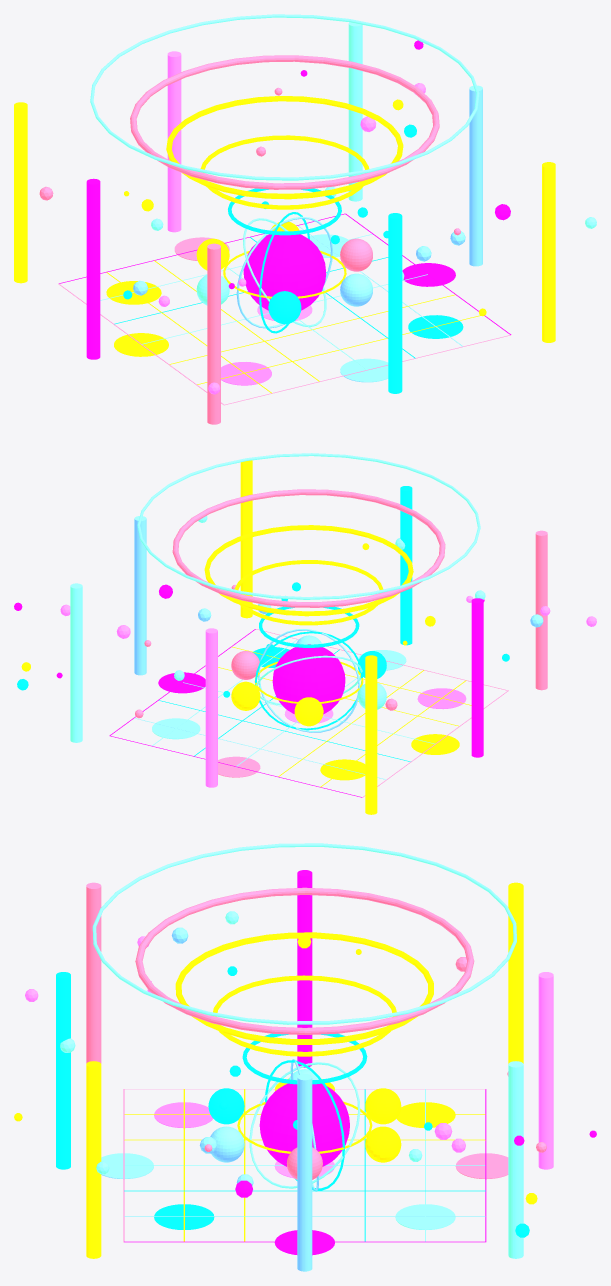
File: estructura5.glb
3 renders of one model, top to bottom at view 1: azimuth 30°, elevation 25°; view 2: azimuth 150°, elevation 25°; view 3: azimuth 270°, elevation 25°, orthographic. The views are drawn at different scales.
Parts seen in each view (by area): view 1: Ring_0, CentralSculpture, Ring_3, Ring_1, Pillar_7, Pillar_4, Pillar_2, Pillar_1, Pillar_0, Pillar_5, Pillar_6, Pillar_3 (+12 smaller); view 2: Ring_0, CentralSculpture, Ring_3, Ring_1, Pillar_2, Pillar_3, Pillar_6, Pillar_7, Pillar_5, Pillar_0, Pillar_4, Pillar_1 (+13 smaller); view 3: Ring_0, CentralSculpture, Ring_3, Ring_1, Pillar_5, Pillar_1, Pillar_6, Pillar_3, Pillar_4, Pillar_2, Pillar_0, Pillar_7 (+18 smaller).
Part boxes in pixels (x1,y1,x2,y2): Ring_0: [130, 55, 439, 189]; CentralSculpture: [243, 231, 326, 310]; Ring_3: [90, 14, 479, 180]; Ring_1: [166, 96, 403, 199]; Pillar_7: [86, 178, 100, 359]; Pillar_4: [388, 213, 402, 393]; Pillar_2: [14, 102, 27, 283]; Pillar_1: [542, 162, 555, 342]; Pillar_0: [207, 243, 220, 424]; Pillar_5: [469, 85, 482, 266]; Pillar_6: [167, 51, 181, 232]; Pillar_3: [348, 22, 362, 201]; Ring_0: [172, 489, 445, 607]; CentralSculpture: [272, 644, 345, 714]; Ring_3: [137, 453, 480, 599]; Ring_1: [204, 525, 413, 616]; Pillar_2: [365, 655, 377, 814]; Pillar_3: [70, 583, 82, 742]; Pillar_6: [205, 628, 217, 787]; Pillar_7: [471, 598, 483, 757]; Pillar_5: [134, 516, 146, 675]; Pillar_0: [535, 530, 547, 690]; Pillar_4: [400, 486, 412, 645]; Pillar_1: [240, 460, 252, 618]; Ring_0: [135, 887, 474, 1034]; CentralSculpture: [259, 1083, 349, 1166]; Ring_3: [92, 843, 516, 1024]; Ring_1: [175, 932, 433, 1044]; Pillar_5: [297, 1074, 312, 1271]; Pillar_1: [86, 1061, 101, 1258]; Pillar_6: [538, 972, 553, 1169]; Pillar_3: [508, 1061, 523, 1258]; Pillar_4: [56, 972, 70, 1169]; Pillar_2: [508, 882, 523, 1063]; Pillar_0: [86, 882, 101, 1063]; Pillar_7: [297, 870, 312, 1067].
Size of what is drawn, in the model's own units: 18.56 by 9.3 by 19.33.
